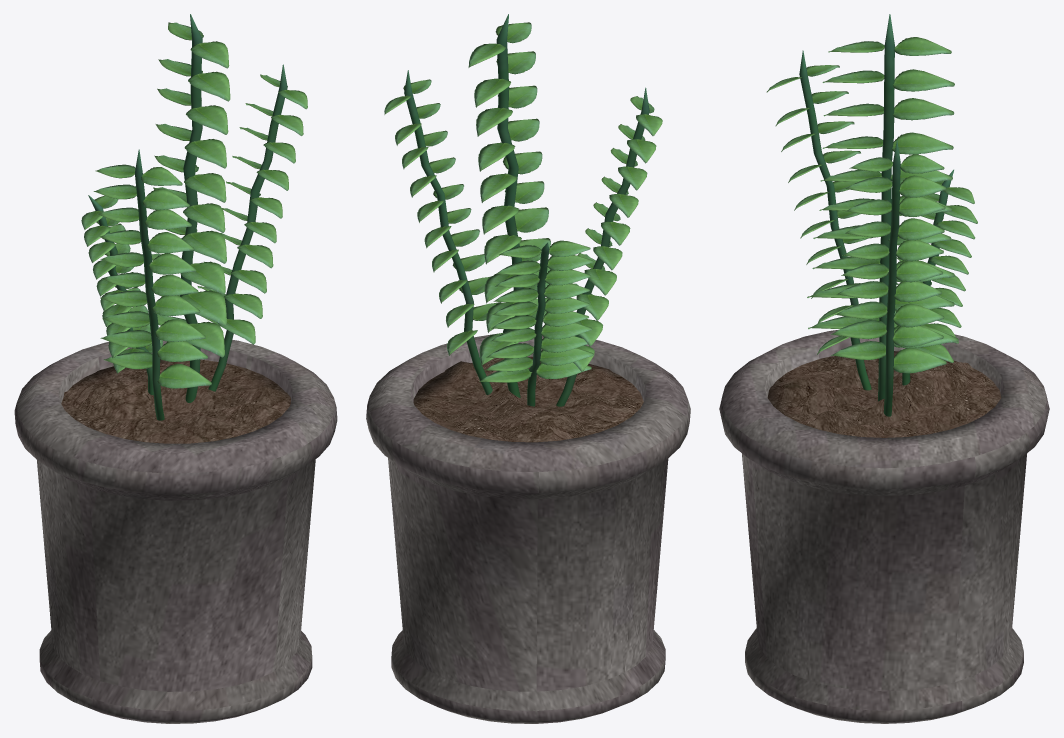
File: kay vir Euphorbia tithymaloides.fbx
3 renders of one model, left to right at view 1: azimuth 30°, elevation 25°; view 2: azimuth 150°, elevation 25°; view 3: azimuth 270°, elevation 25°, orthographic. The views are drawn at different scales.
Parts seen in each view (by area): view 1: Euphorbia tithymaloides.001; view 2: Euphorbia tithymaloides.001; view 3: Euphorbia tithymaloides.001.
Boxes of the visible parts, x1=… form: Euphorbia tithymaloides.001: x1=14, y1=14, x2=337, y2=723; Euphorbia tithymaloides.001: x1=366, y1=14, x2=690, y2=723; Euphorbia tithymaloides.001: x1=719, y1=14, x2=1049, y2=723.
Size of the model in its own units: 25.02 by 55.69 by 25.02.
Materials: 90 (90 with a texture image).
